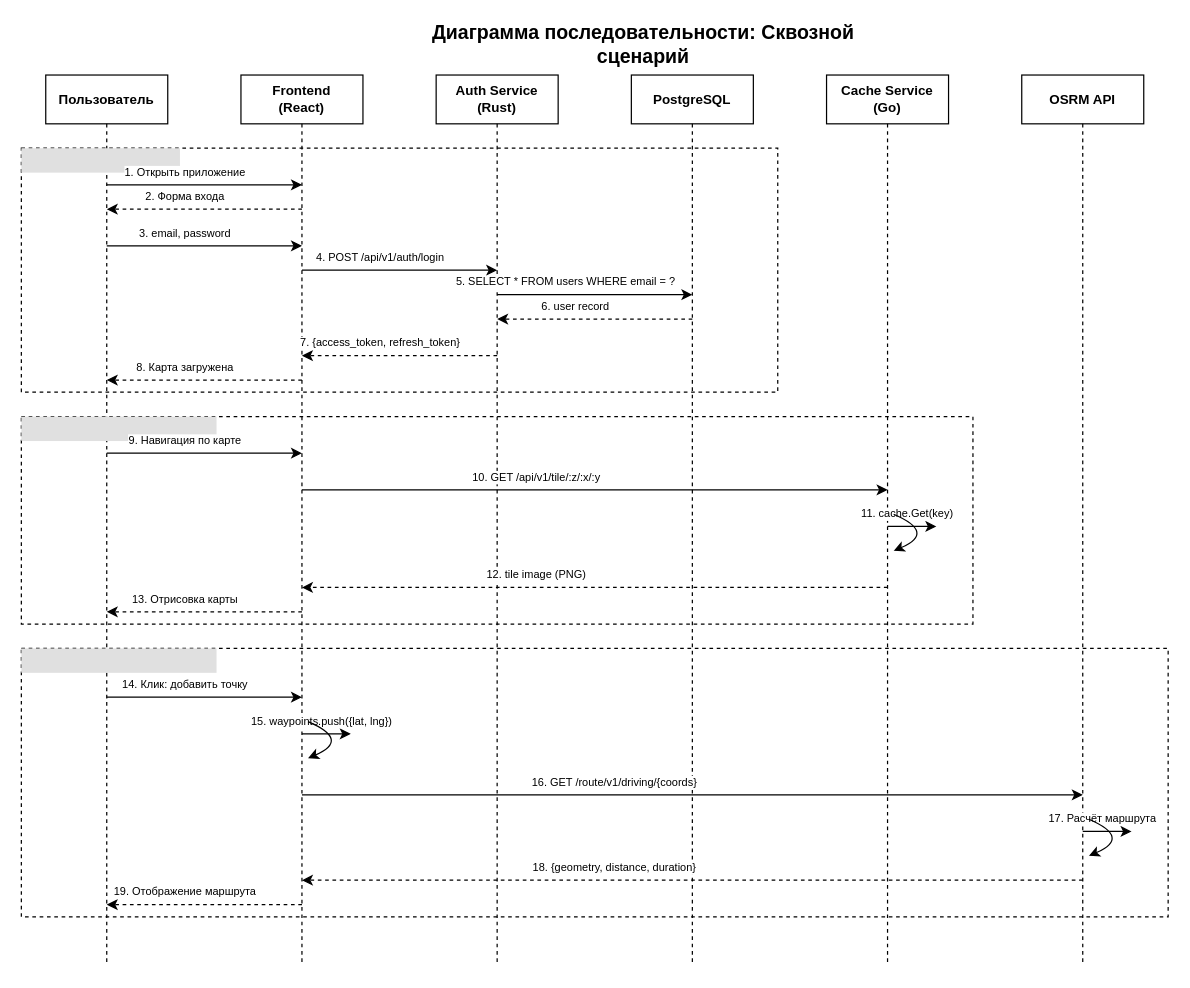
Some shapes in this 1190 by 988 pixel diagram are drawn without their labels. The shapes that lost their labels are listed below. From the top down, each one's box as (x1, y1, x2, y2) in pixels, then its label:
(21, 148, 179, 172): alt [Аутентификация]
(21, 416, 216, 440): loop [Загрузка тайлов карты]
(21, 648, 216, 672): opt [Построение маршрута]
